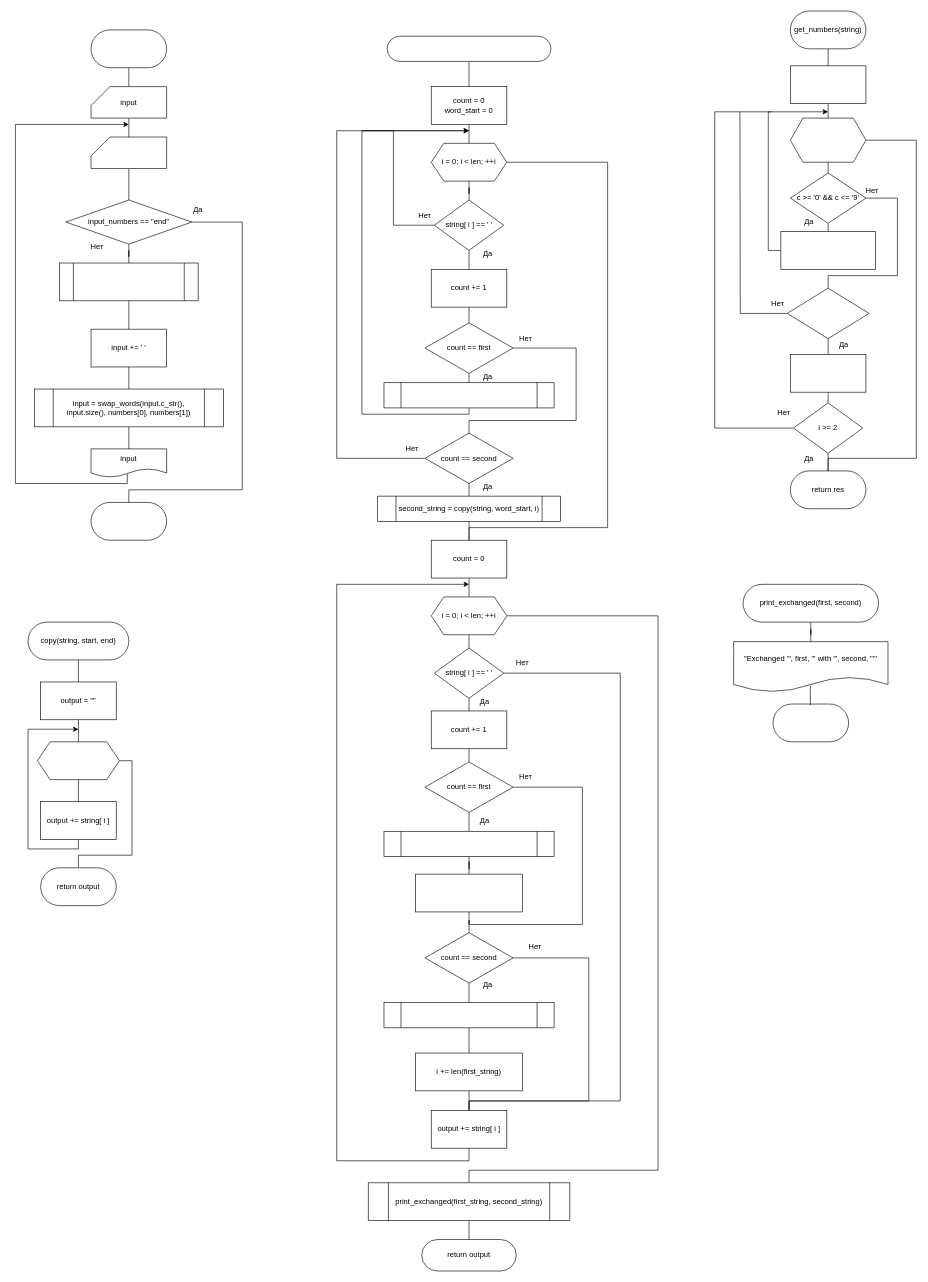
The diagram is 928 pixels wide and 1282 high, and some of its shapes have lost their labels. Each missing label, with the centre of its shape:
c == ' ': point (828, 313)
c in string: point (828, 139)
first_string = copy(string, word_start, i): point (468, 395)
i += len(second_string): point (469, 892)
i = start; i < end; ++i: point (78, 760)
input_numbers: point (128, 152)
int[ 2 ] res num = 0 i = 0: point (828, 84)
num = num * 10 + (c - '0'): point (827, 250)
numbers = get_numbers(input_numbers): point (128, 281)
output += first_string: point (468, 1015)
output += second_string: point (468, 843)
res[ i ] = num i += 1: point (828, 373)
return: point (810, 722)
swap_words(string, len, first, second): point (469, 48)
Конец: point (128, 521)
Начало: point (128, 48)
